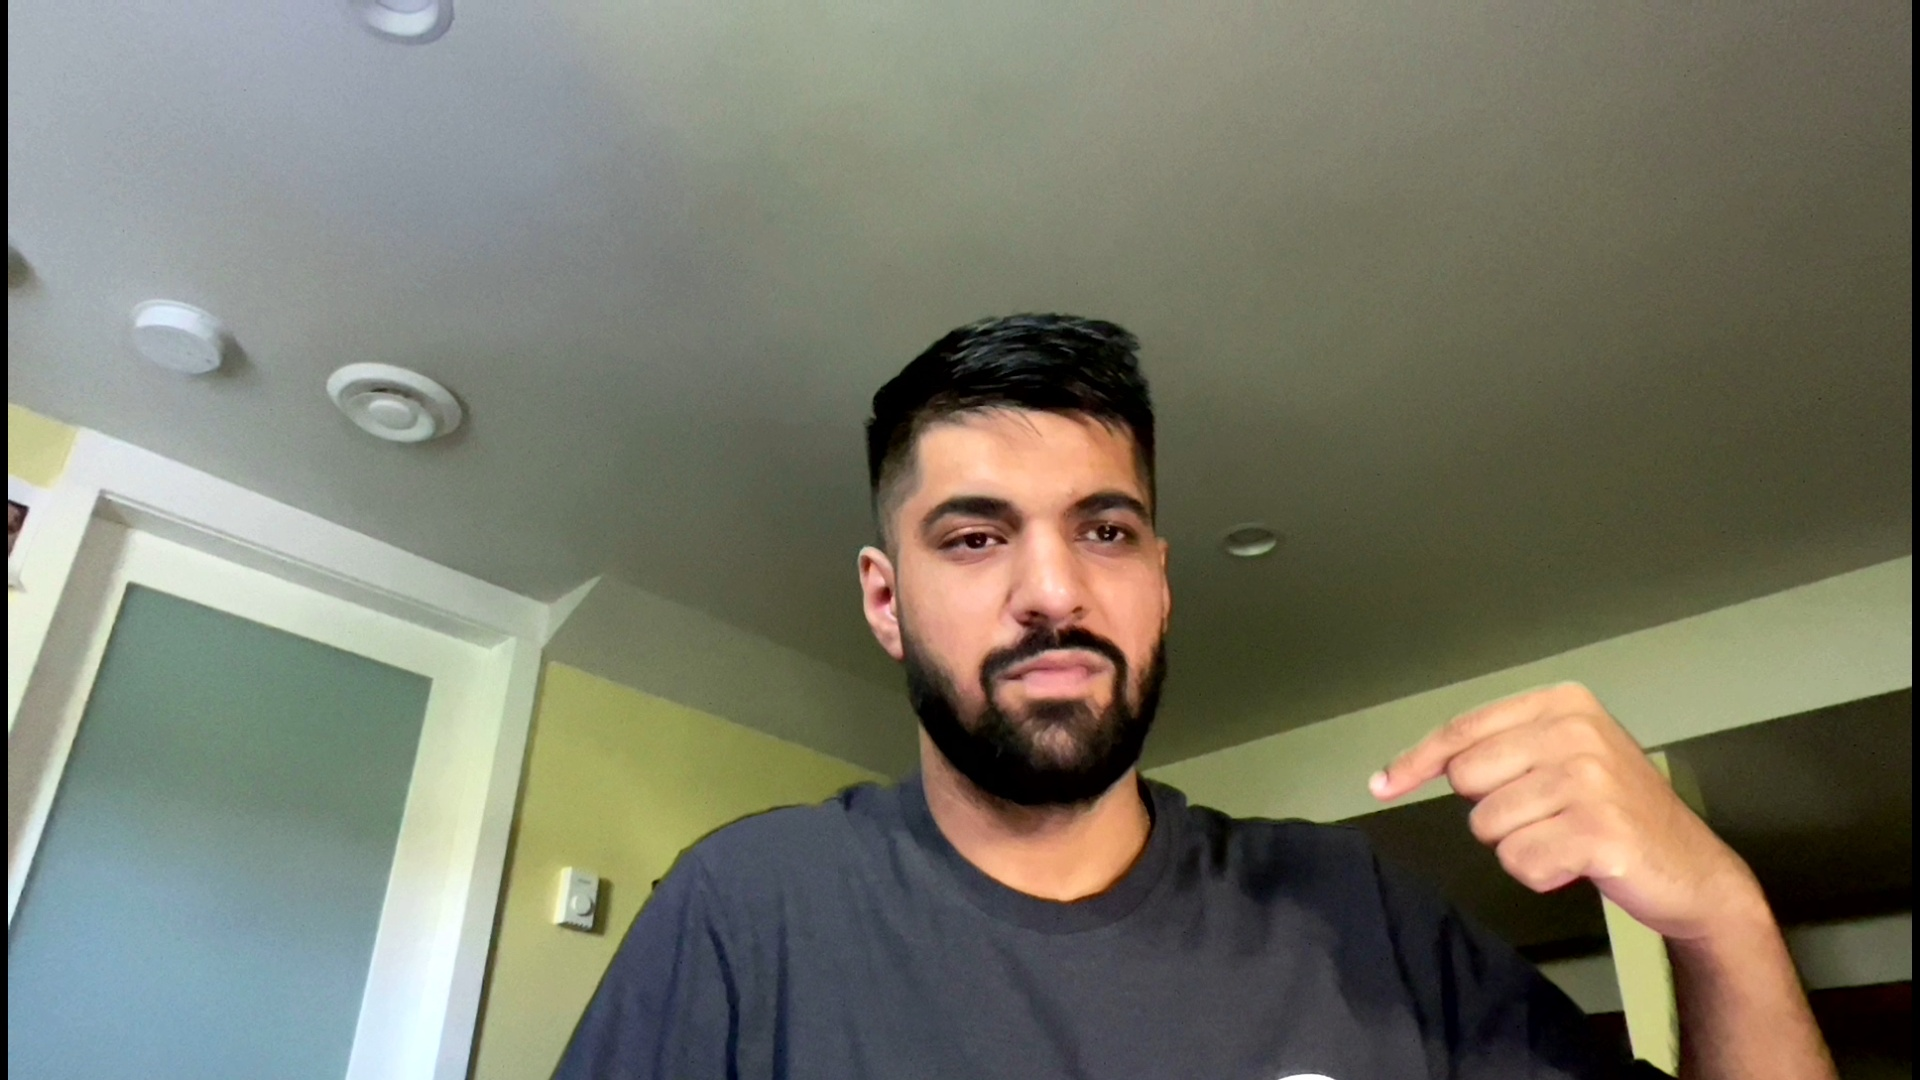Vikrant: (1358, 670, 1789, 934)
